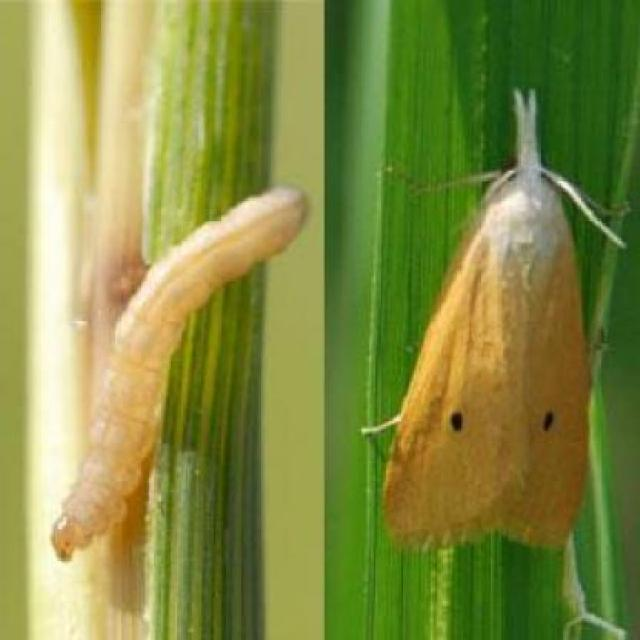stem-borer: (380, 84, 597, 558)
